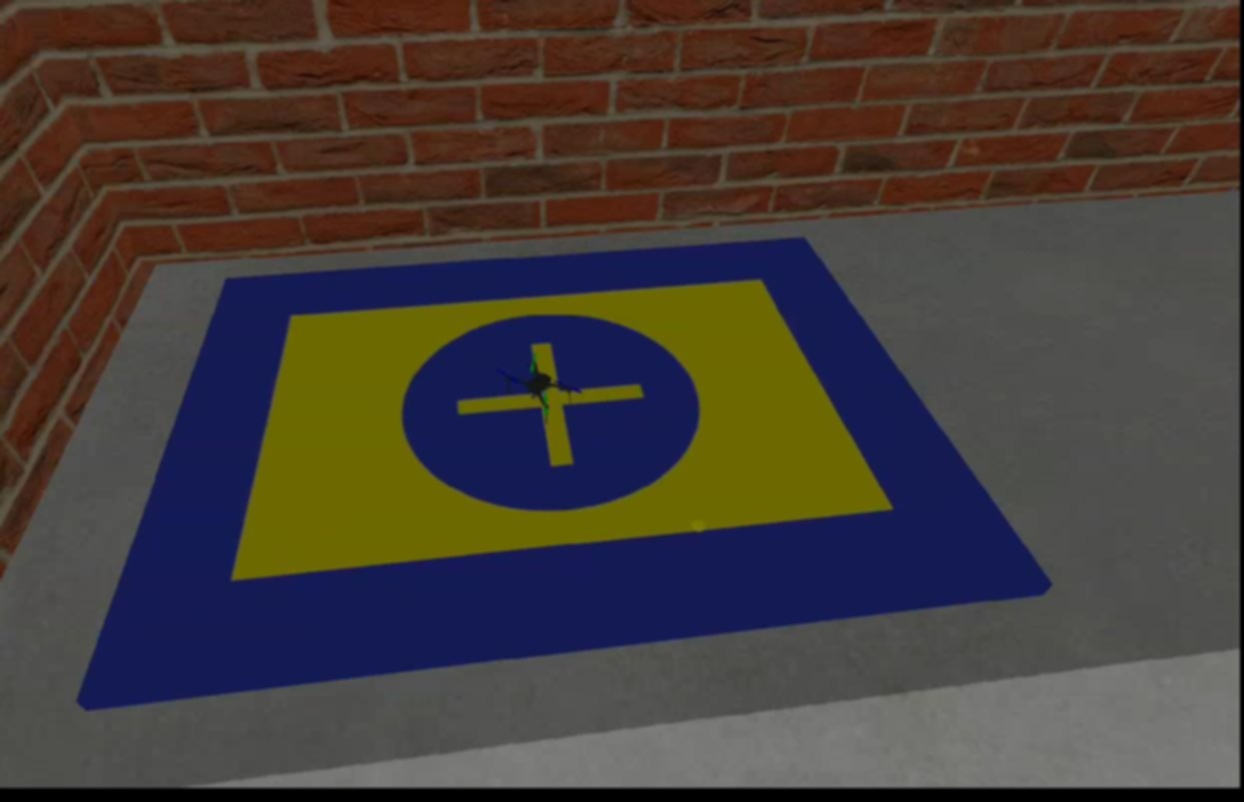large_base: (75, 227, 1049, 713)
